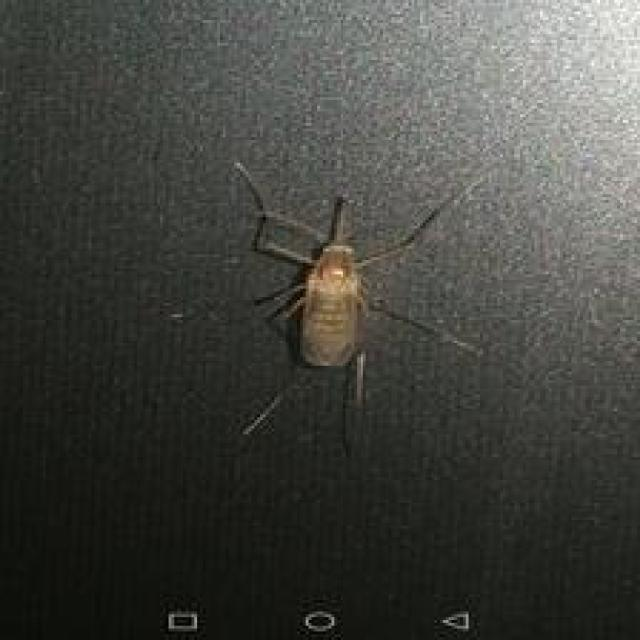Culex: (226, 158, 491, 456)
